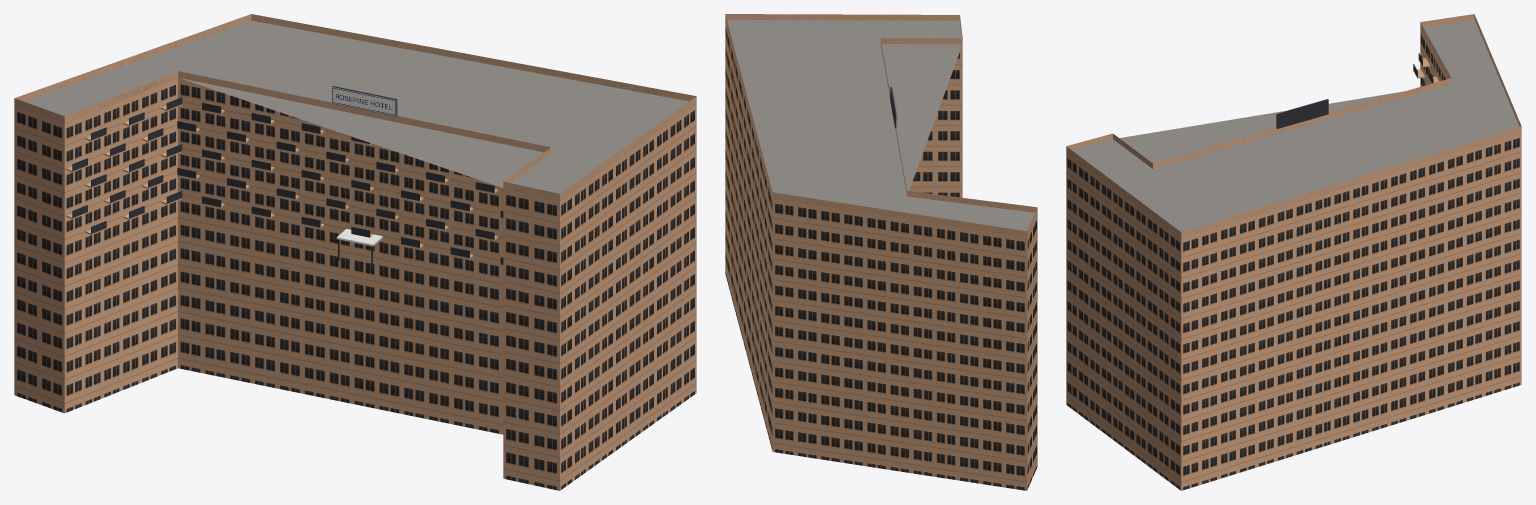
File: hotels-27361-14864.5a6b217b.glb
3 renders of one model, left to right at view 1: azimuth 30°, elevation 25°; view 2: azimuth 150°, elevation 25°; view 3: azimuth 270°, elevation 25°, orthographic. The views are drawn at different scales.
Bounding box in the file's own units: 73.51 × 42.86 × 64.8.
4 materials, 2 textured.
